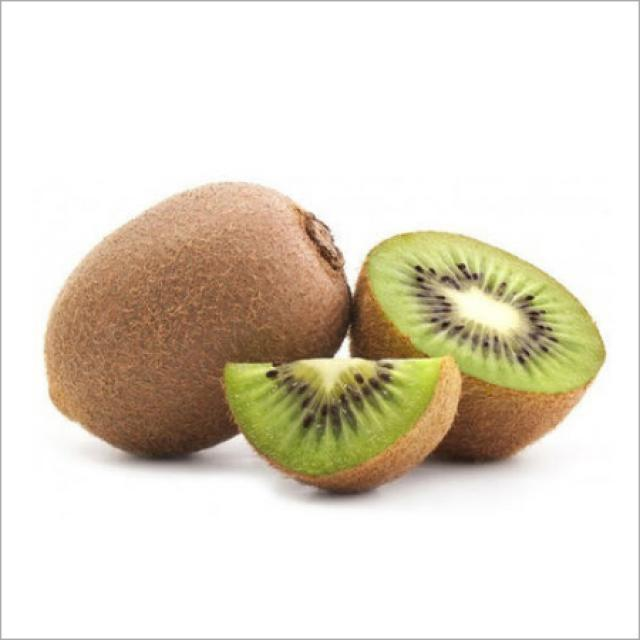kiwi: (44, 182, 346, 470)
